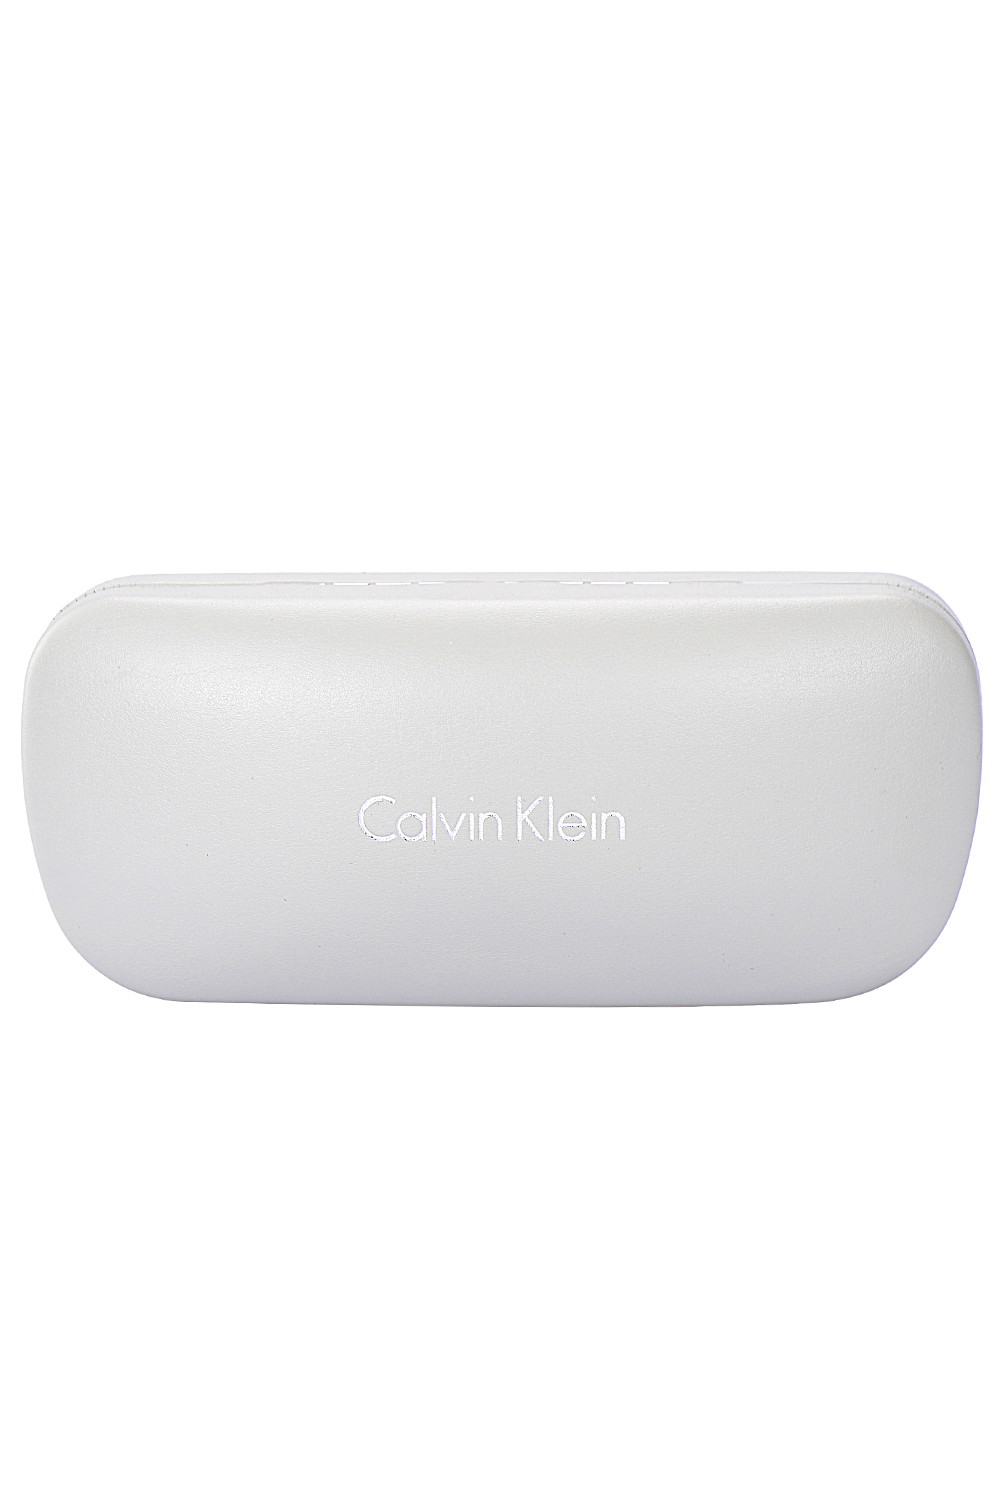Calvin Klein: (340, 765, 644, 856)
